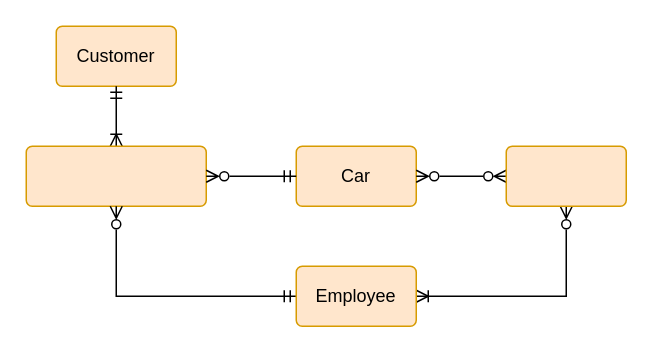
The diagram is 653 pixels wide and 353 high, and some of its shapes have lost their labels. The centre of each missing label's shape, as x and y in pixels:
Maintenance: [565,175]
RentalAgreement: [115,175]
